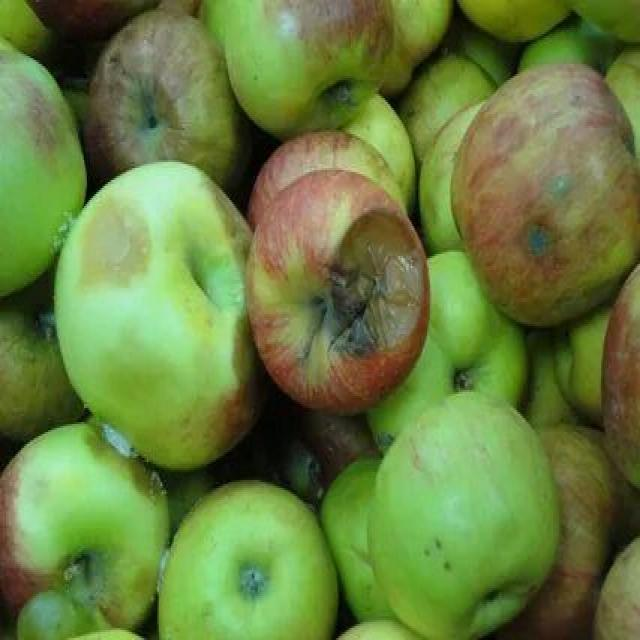fresh_apple: (367, 389, 556, 637)
rotten_apple: (452, 67, 638, 325), (249, 169, 433, 415)
